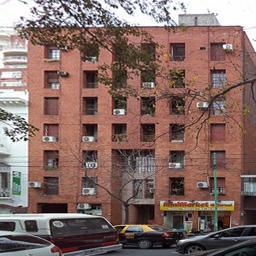building: (25, 6, 245, 216)
